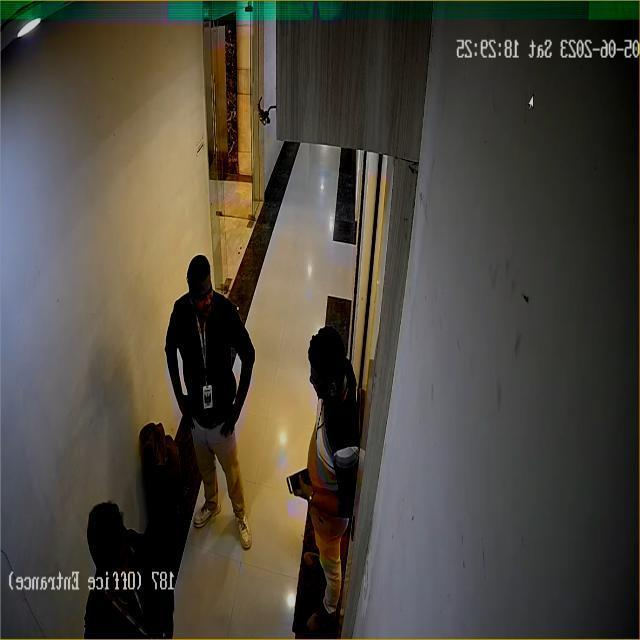gunny_bag: (137, 419, 189, 541)
